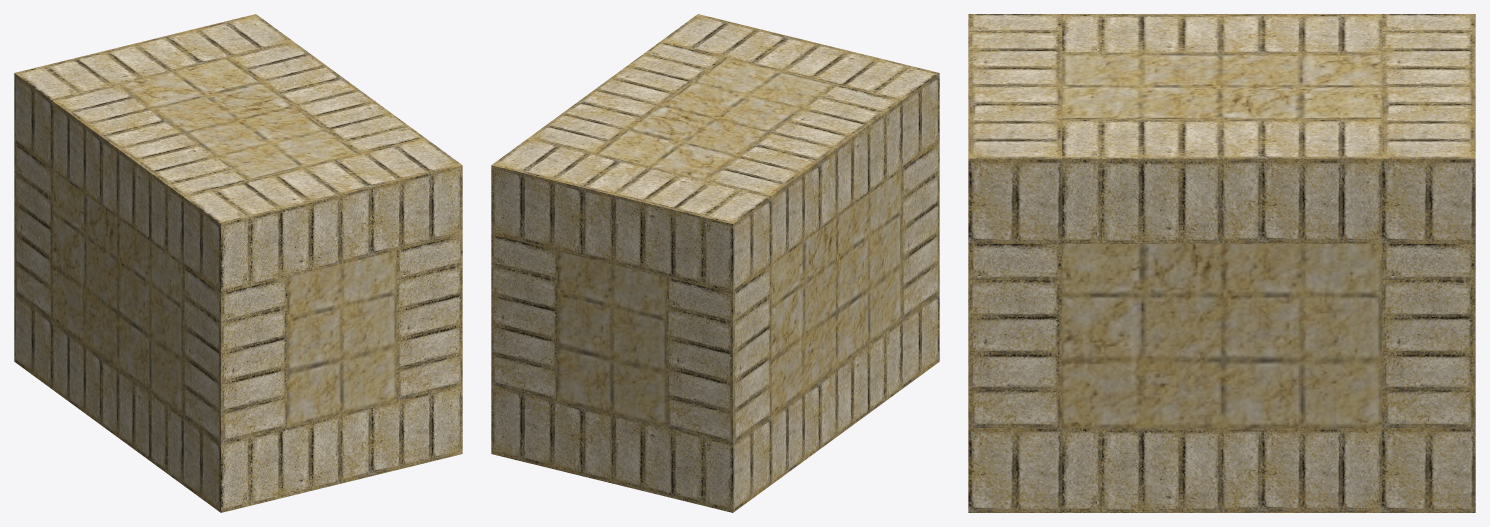
File: tutorial_structure_jumpingbox_sml.dae
3 renders of one model, left to right at view 1: azimuth 30°, elevation 25°; view 2: azimuth 150°, elevation 25°; view 3: azimuth 270°, elevation 25°, orthographic. The views are drawn at different scales.
Parts seen in each view (by area): view 1: tutorial_structure_jumpingbox_sml; view 2: tutorial_structure_jumpingbox_sml; view 3: tutorial_structure_jumpingbox_sml.
Part boxes in pixels (x1,y1,x2,y2): tutorial_structure_jumpingbox_sml: (14, 14, 462, 512); tutorial_structure_jumpingbox_sml: (491, 14, 939, 512); tutorial_structure_jumpingbox_sml: (968, 14, 1475, 512).
Size of the model in its own units: 2.7 by 4 by 3.08.
2 materials, 2 textured.
